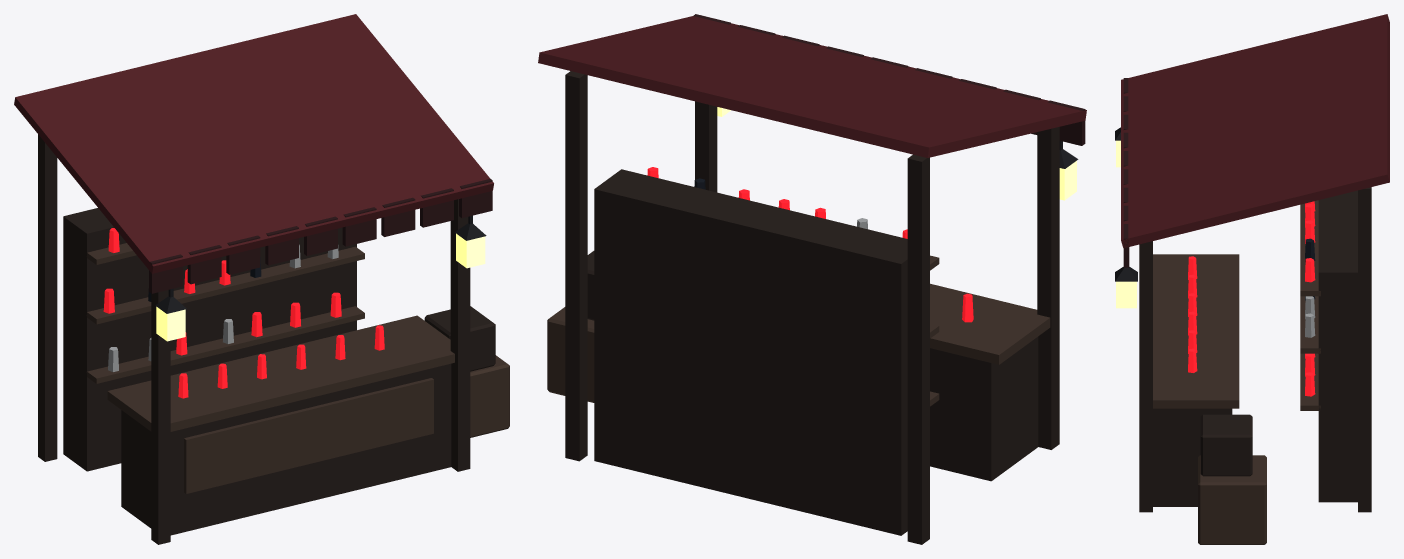
File: gothic_stall.glb
The picture shows the model from 3 angles, left to right: view 1: azimuth 30°, elevation 25°; view 2: azimuth 150°, elevation 25°; view 3: azimuth 270°, elevation 25°; orthographic projection. The views are drawn at different scales.
Visible parts, largest first — view 1: gothic_stall; view 2: gothic_stall; view 3: gothic_stall.
Boxes of the visible parts, box(x1,y1,x2,y2) form: gothic_stall: box(14, 14, 509, 544); gothic_stall: box(538, 14, 1086, 544); gothic_stall: box(1115, 14, 1389, 544).
Bounding box in the file's own units: 3.85 × 3.3 × 2.39.
